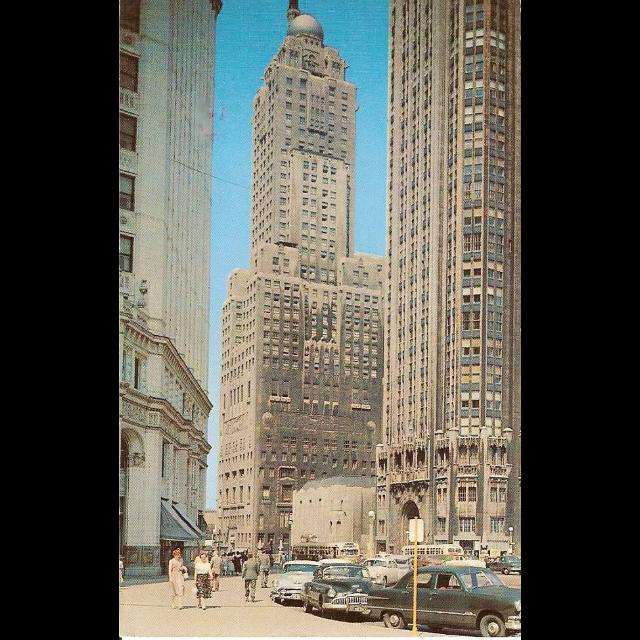head: (200, 554, 208, 564), (174, 550, 182, 558), (249, 554, 255, 560), (214, 551, 220, 557), (200, 552, 206, 558), (262, 550, 268, 554), (237, 552, 241, 556)
person: (167, 548, 189, 612), (193, 554, 215, 610), (240, 552, 262, 604), (193, 550, 210, 598), (208, 551, 224, 593), (258, 548, 272, 590), (232, 551, 242, 577)
